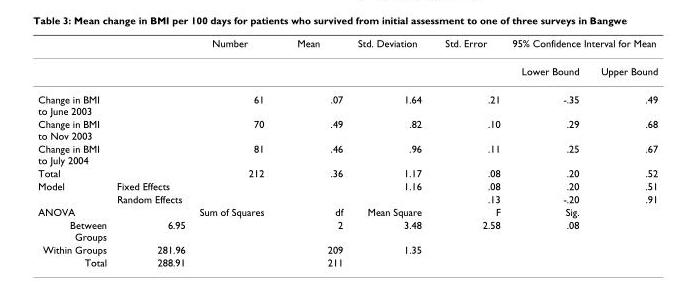table: (37, 36, 657, 268)
table column: (111, 36, 198, 268), (505, 36, 589, 268), (349, 36, 432, 268), (198, 36, 280, 268), (37, 36, 111, 268), (432, 36, 505, 268), (280, 36, 349, 268), (589, 36, 657, 268)
table column header: (37, 36, 657, 84)
table row: (37, 84, 657, 117), (37, 56, 657, 84), (37, 141, 657, 166), (37, 117, 657, 141), (37, 218, 657, 242), (37, 36, 657, 56), (37, 166, 657, 179), (37, 179, 657, 192), (37, 192, 657, 205), (37, 205, 657, 218), (37, 242, 657, 255), (37, 255, 657, 268)
table spanning cell: (349, 36, 432, 84), (198, 36, 280, 84), (432, 36, 505, 84), (280, 36, 349, 84), (505, 36, 657, 56), (111, 179, 280, 192), (111, 192, 280, 205), (111, 205, 280, 218), (37, 179, 111, 205)
